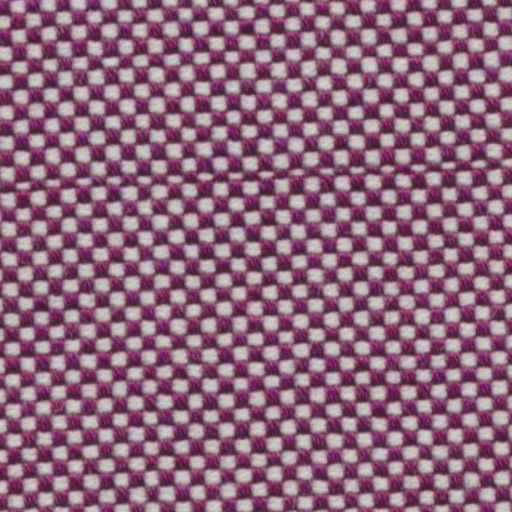TuoSha: (17, 149, 496, 202)
